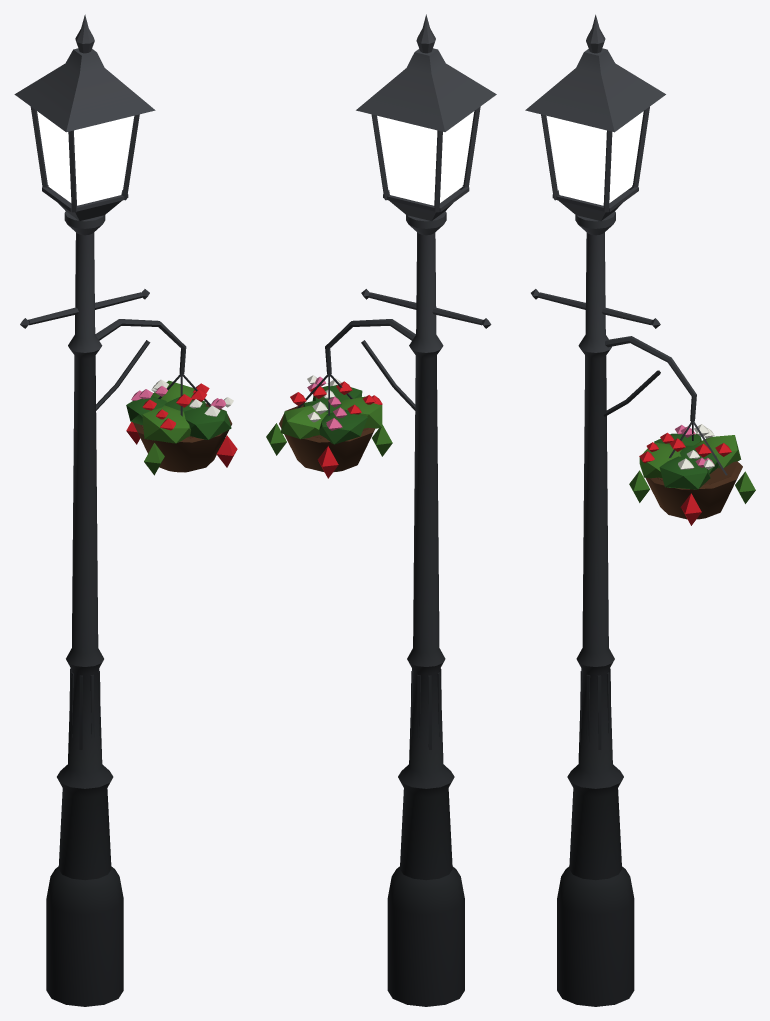
The model's file is Lamp_Alpine.fbx.
The picture shows the model from 3 angles, left to right: view 1: azimuth 30°, elevation 25°; view 2: azimuth 150°, elevation 25°; view 3: azimuth 330°, elevation 25°; orthographic projection.
Parts seen in each view (by area): view 1: Lamp_Alpine_LOD0; view 2: Lamp_Alpine_LOD0; view 3: Lamp_Alpine_LOD0.
Boxes of the visible parts, x1,y1,x2,y2 form: Lamp_Alpine_LOD0: (14, 14, 237, 1006); Lamp_Alpine_LOD0: (266, 14, 496, 1006); Lamp_Alpine_LOD0: (525, 14, 755, 1006).
Size of what is drawn, in the model's own units: 1.21 by 5.3 by 0.5763.
Materials: 1 (1 with a texture image).
